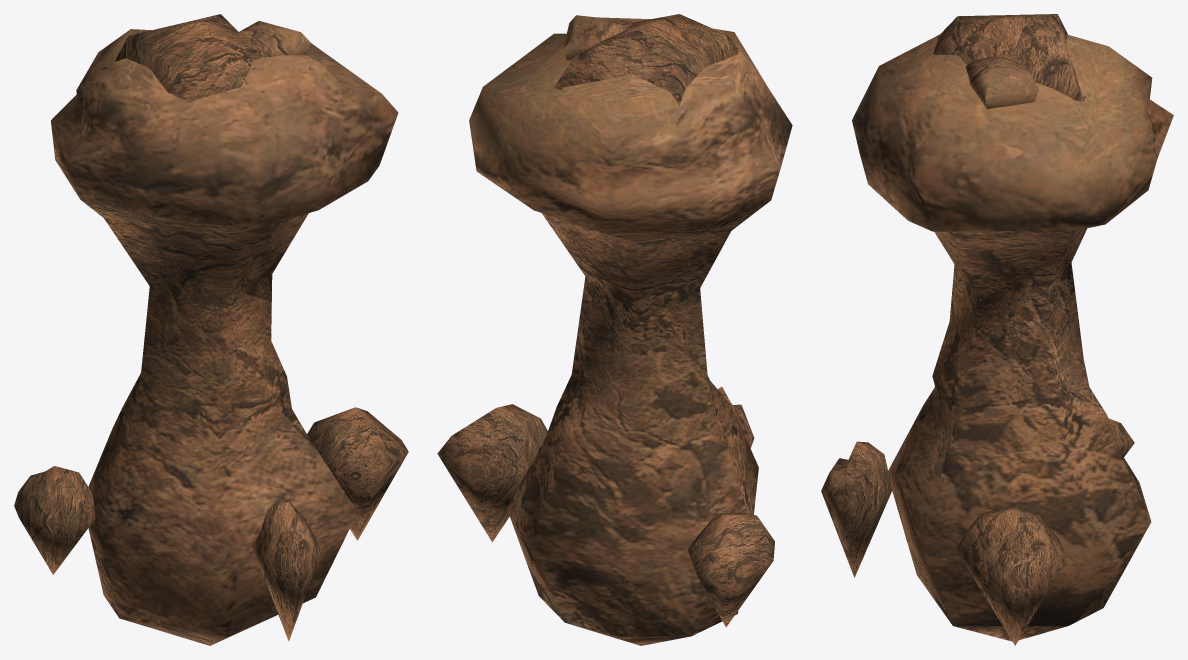
The model's file is rock_tatt_mushroom_l2.fbx.
3 renders of one model, left to right at view 1: azimuth 30°, elevation 25°; view 2: azimuth 150°, elevation 25°; view 3: azimuth 270°, elevation 25°, orthographic.
Parts seen in each view (by area): view 1: mesh_node; view 2: mesh_node; view 3: mesh_node.
Boxes of the visible parts, box(x1,y1,x2,y2) form: mesh_node: box(14, 14, 408, 645); mesh_node: box(437, 14, 792, 645); mesh_node: box(821, 14, 1173, 645).
Size of the model in its own units: 29.27 by 49.51 by 25.67.
1 material, 1 textured.
